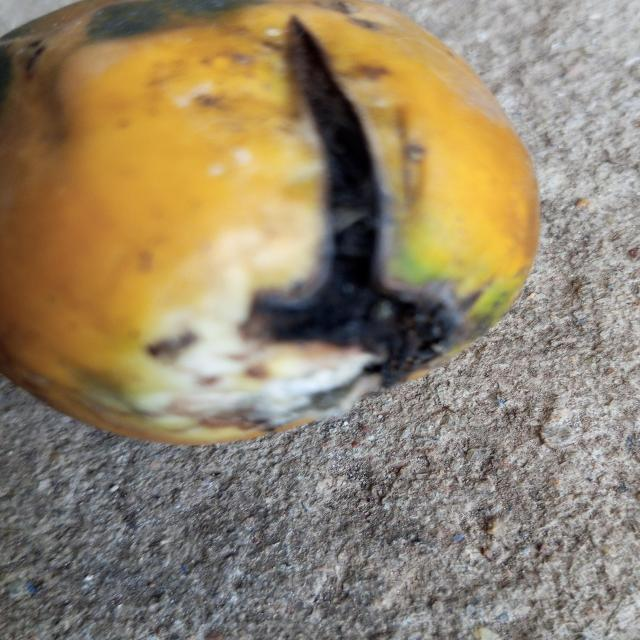damaged: (0, 0, 541, 449)
